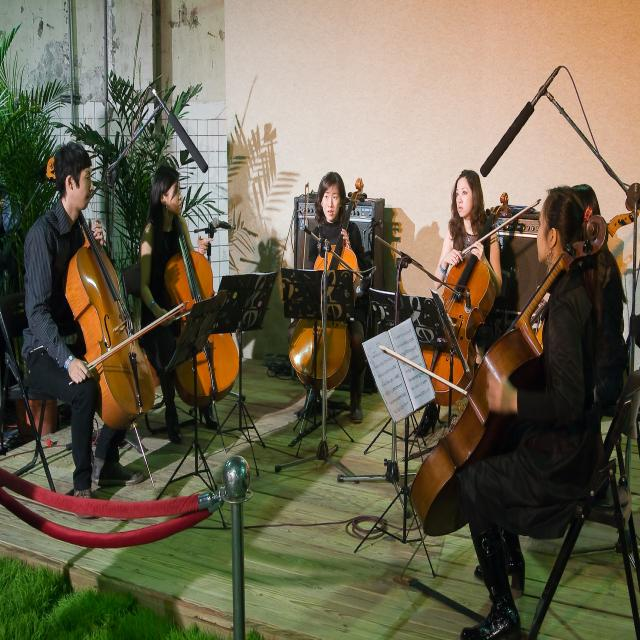cello: (406, 215, 611, 539), (42, 154, 156, 436), (412, 189, 509, 409), (153, 176, 240, 410), (290, 176, 364, 392)
